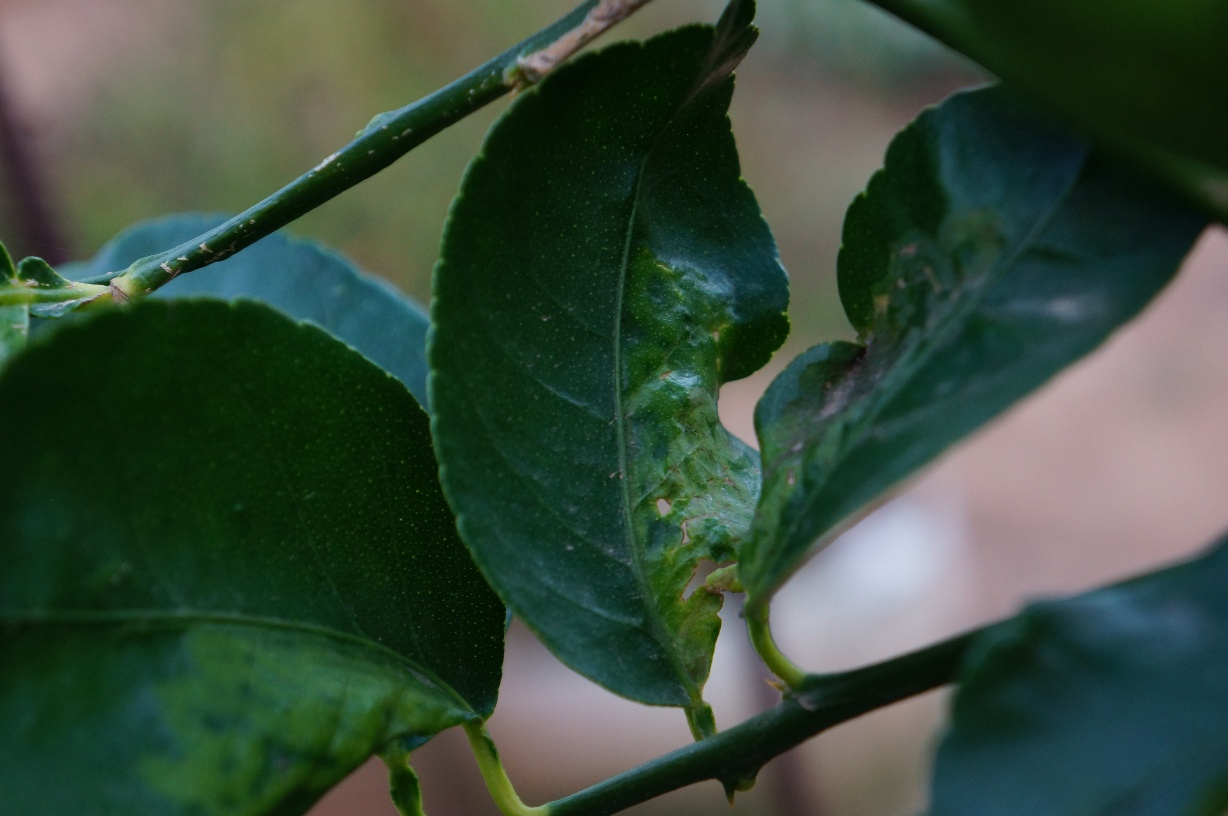damage: (607, 191, 799, 743)
